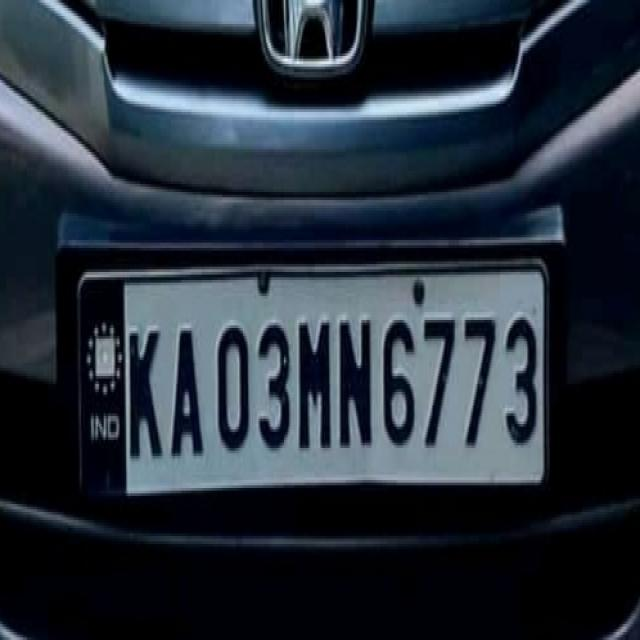0: (212, 319, 253, 458)
3: (501, 309, 541, 453), (254, 312, 295, 451)
6: (379, 308, 419, 448)
7: (460, 305, 501, 457), (421, 306, 459, 454)
A: (168, 319, 206, 465)
K: (126, 325, 168, 466)
M: (296, 309, 336, 461)
N: (338, 309, 379, 459)
